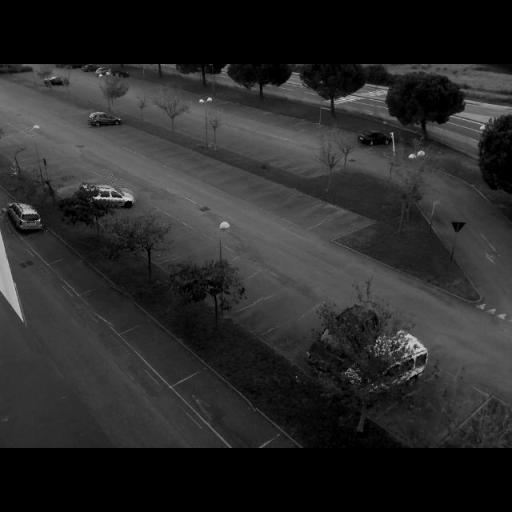busy: (298, 304, 388, 376), (343, 331, 430, 403), (76, 182, 138, 213), (3, 202, 50, 236), (357, 130, 392, 150), (86, 112, 124, 130), (44, 72, 72, 90), (96, 68, 114, 78)
free: (404, 384, 456, 438), (88, 286, 136, 328), (210, 396, 256, 431), (287, 316, 323, 358), (250, 300, 286, 332), (59, 258, 93, 290), (30, 234, 66, 262), (228, 254, 263, 280), (232, 279, 264, 307), (142, 337, 176, 359), (166, 233, 191, 260), (188, 250, 218, 272), (302, 206, 327, 228), (320, 220, 347, 239), (285, 196, 309, 214), (200, 161, 226, 175), (274, 190, 298, 204), (181, 158, 206, 170), (256, 181, 277, 195), (235, 175, 258, 187), (24, 156, 42, 168), (219, 170, 240, 180), (216, 99, 234, 109), (261, 111, 278, 121), (298, 121, 312, 132), (309, 127, 328, 135), (284, 118, 298, 127)
